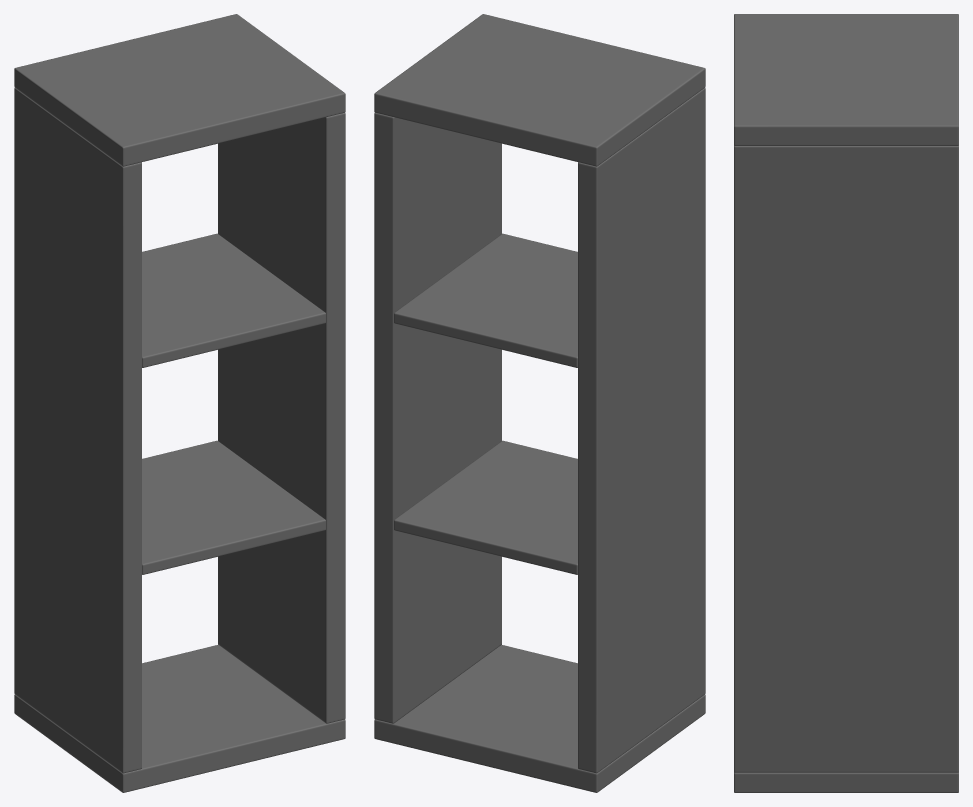
Rendered from abo-B07YN43NHB.glb.
The picture shows the model from 3 angles, left to right: view 1: azimuth 30°, elevation 25°; view 2: azimuth 150°, elevation 25°; view 3: azimuth 270°, elevation 25°; orthographic projection. The views are drawn at different scales.
Size of the model in its own units: 0.39 by 1.08 by 0.33.
1 material, 1 textured.
